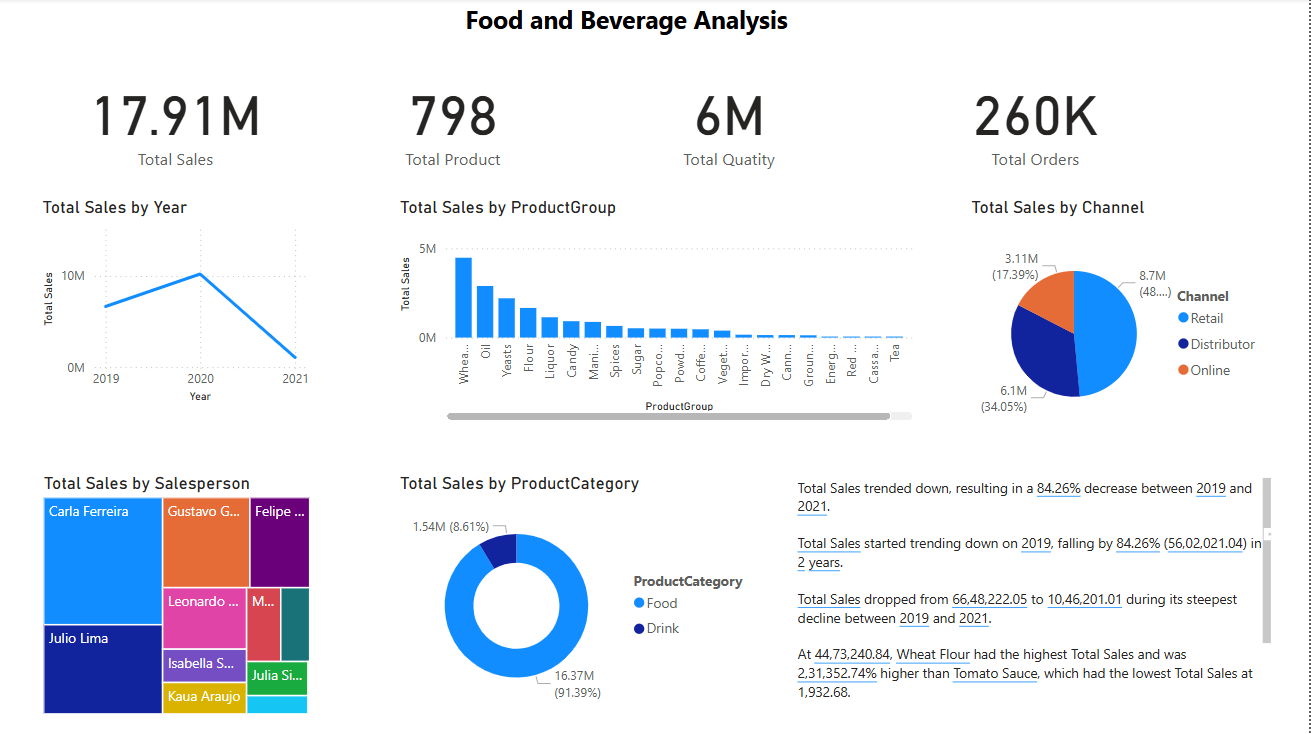

The dashboard page shown, as its layout file describes it:
{"tool":"powerbi","page":{"name":"Page 1","canvas":[1280,720],"ordinal":0},"visuals":[{"type":"textbox","box":[9.6,0,1206.2,43.9],"z":0},{"type":"card","fields":{"Values":["Sales.Total Sales"]},"box":[36.7,44,270.2,150.4],"z":1000},{"type":"card","fields":{"Values":["Products.Total Product"]},"box":[308.2,44,270.2,150.4],"z":2000},{"type":"card","fields":{"Values":["Sales.Total Orders"]},"box":[878,44,270.2,150.4],"z":3000},{"type":"card","fields":{"Values":["Sales.Total Quatity"]},"box":[578.4,44,270.2,150.4],"z":4000},{"type":"lineChart","fields":{"Y":["Sales.Total Sales"],"Category":["Sales.OrderDate.Variation.Date Hierarchy.Year"]},"box":[36.7,194.4,270.2,206.7],"z":5000},{"type":"clusteredColumnChart","fields":{"Y":["Sales.Total Sales"],"Category":["Products.ProductGroup"]},"box":[386.4,194.4,511.1,223.8],"z":6000},{"type":"pieChart","fields":{"Y":["Sales.Total Sales"],"Category":["Sales.Channel"]},"box":[945.2,194.4,297.1,249.5],"z":7000},{"type":"treemap","fields":{"Values":["Sales.Total Sales"],"Group":["Sales.Salesperson"]},"box":[37.9,464.7,270.2,240.9],"z":8000},{"type":"donutChart","fields":{"Y":["Sales.Total Sales"],"Category":["Products.ProductCategory"]},"box":[386.4,464.7,351,240.9],"z":9000},{"type":"textbox","box":[775.3,464.7,473.2,226.2],"z":10000},{"type":"textbox","box":[1236.3,518.5,12.2,12.2],"z":11000}]}

Visuals, with their boxes in screenshot pixels (x1, y1, x2, y2), scaled from the page's 1280x720 canvas onto the 1311x734 screenshot:
textbox: (10, 0, 1245, 45)
card - Sales.Total Sales: (38, 45, 314, 198)
card - Products.Total Product: (316, 45, 592, 198)
card - Sales.Total Orders: (899, 45, 1176, 198)
card - Sales.Total Quatity: (592, 45, 869, 198)
lineChart - Sales.Total Sales x Sales.OrderDate.Variation.Date Hierarchy.Year: (38, 198, 314, 409)
clusteredColumnChart - Sales.Total Sales x Products.ProductGroup: (396, 198, 919, 426)
pieChart - Sales.Total Sales x Sales.Channel: (968, 198, 1272, 453)
treemap - Sales.Total Sales x Sales.Salesperson: (39, 474, 316, 719)
donutChart - Sales.Total Sales x Products.ProductCategory: (396, 474, 755, 719)
textbox: (794, 474, 1279, 704)
textbox: (1266, 529, 1279, 541)
